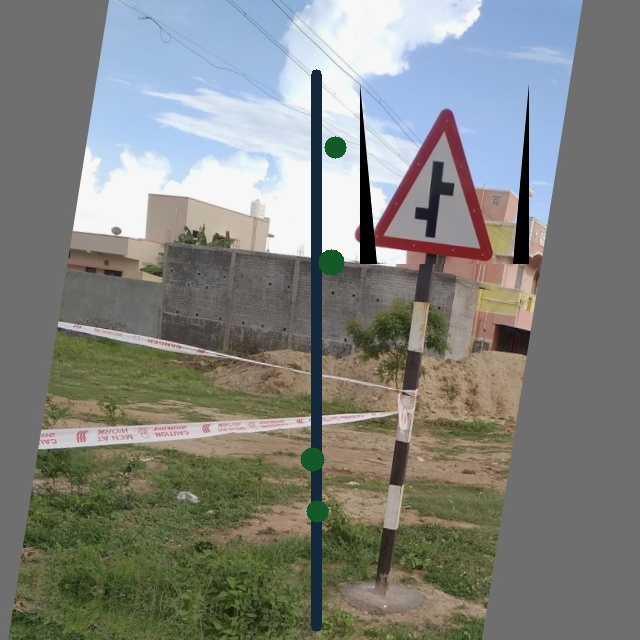Staggered_Intersection: (360, 83, 529, 264)
